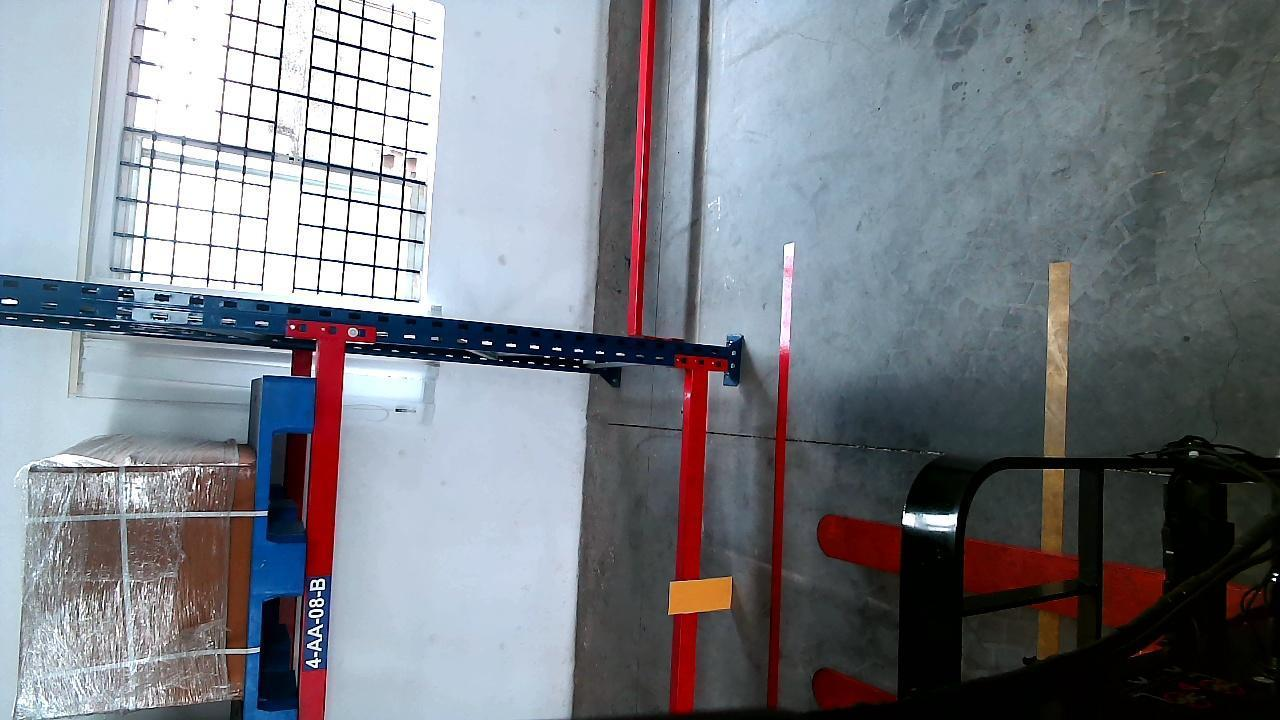h_rack: (301, 341, 348, 720), (675, 366, 709, 708)
orange_strip: (671, 577, 734, 613)
red_line: (762, 237, 796, 717)
small_pallet: (244, 371, 310, 720)
yellow_line: (1043, 253, 1070, 540)
